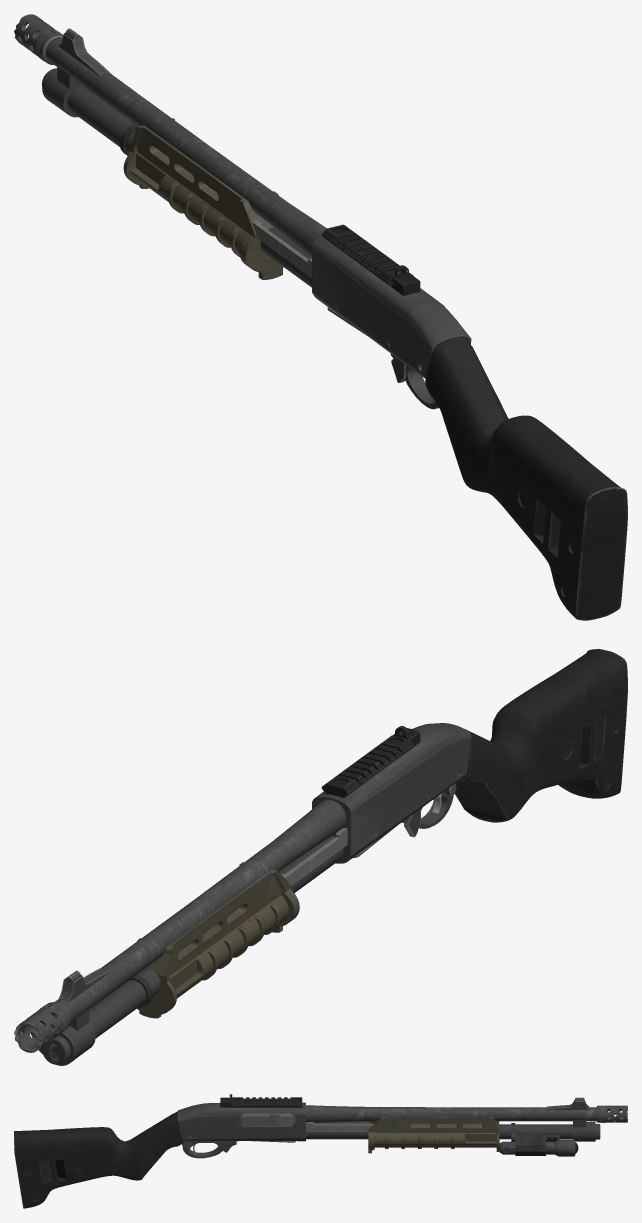
Rendered from hassault-weapon-shotgun.glb.
3 views of the same model, one above another, from view 1: azimuth 30°, elevation 25°; view 2: azimuth 150°, elevation 25°; view 3: azimuth 270°, elevation 25° (orthographic). The views are drawn at different scales.
Visible parts, largest first — view 1: Remmington_870_Express_Tactical; view 2: Remmington_870_Express_Tactical; view 3: Remmington_870_Express_Tactical.
Boxes of the visible parts, x1=… form: Remmington_870_Express_Tactical: x1=14, y1=14, x2=627, y2=620; Remmington_870_Express_Tactical: x1=14, y1=649, x2=627, y2=1065; Remmington_870_Express_Tactical: x1=14, y1=1094, x2=627, y2=1208.
Bounding box in the file's own units: 0.2032 × 0.5783 × 2.9.
1 material, 1 textured.
